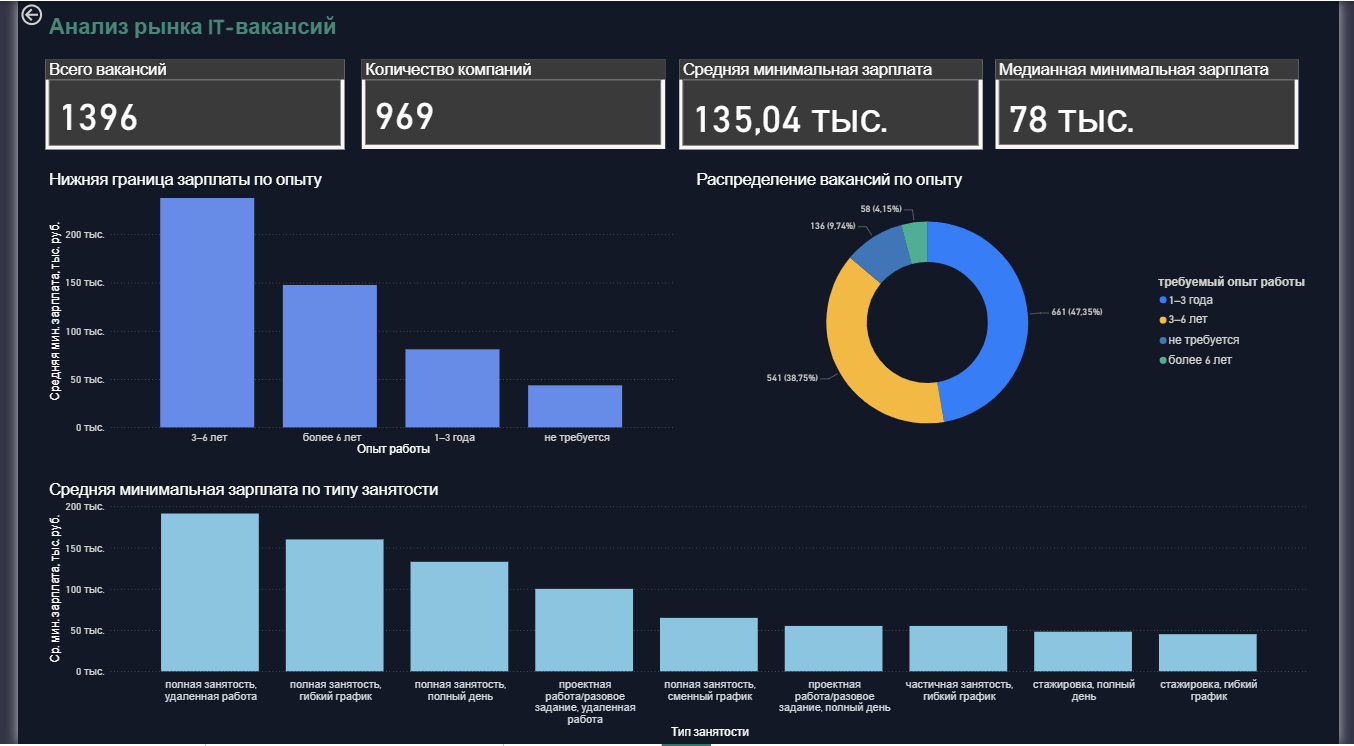

The page's visual inventory and layout, read from the dashboard file:
{"tool":"powerbi","page":{"name":"Анализ рынка IT вакансий","canvas":[1920,1080],"ordinal":0},"visuals":[{"type":"cardVisual","title":"Всего вакансий","fields":{"Data":["Count(Все_вакансии.вакансии_ключ)"]},"box":[40,85,434,130],"z":0},{"type":"actionButton","box":[0,0,100,40],"z":1000},{"type":"cardVisual","title":"Количество компаний","fields":{"Data":["Count(Все_вакансии.компания)"]},"box":[500,85,440.5,129.7],"z":2000},{"type":"cardVisual","title":"Средняя минимальная зарплата","fields":{"Data":["Avg(Все_вакансии.МинЗП_руб)"]},"box":[960,85,440.5,130],"z":3000},{"type":"cardVisual","title":"Медианная минимальная зарплата","fields":{"Data":["Median(Все_вакансии.МинЗП_руб)"]},"box":[1420,85,440,129.7],"z":4000},{"type":"columnChart","title":"Нижняя граница зарплаты по опыту","fields":{"Category":["Все_вакансии.требуемый опыт работы"],"Y":["Avg(Все_вакансии.МинЗП_руб)"]},"box":[40,245,920,420],"z":5000},{"type":"donutChart","title":"Распределение вакансий по опыту","fields":{"Category":["Все_вакансии.требуемый опыт работы"],"Y":["CountNonNull(Все_вакансии.требуемый опыт работы)"]},"box":[980,245,900,420],"z":6000},{"type":"clusteredColumnChart","title":"Средняя минимальная зарплата по типу занятости","fields":{"Category":["Все_вакансии.тип занятости"],"Y":["Avg(Все_вакансии.МинЗП_руб)"]},"box":[40,695,1840,380],"z":7000},{"type":"textbox","box":[40,15,900,50],"z":8000}]}

Visuals, with their boxes in screenshot pixels (x1, y1, x2, y2), scaled from the page's 1920x1080 canvas onto the 1354x746 screenshot:
"Всего вакансий" cardVisual: select_region(28, 59, 334, 149)
actionButton: select_region(0, 0, 71, 28)
"Количество компаний" cardVisual: select_region(353, 59, 663, 148)
"Средняя минимальная зарплата" cardVisual: select_region(677, 59, 988, 149)
"Медианная минимальная зарплата" cardVisual: select_region(1001, 59, 1312, 148)
"Нижняя граница зарплаты по опыту" columnChart: select_region(28, 169, 677, 459)
"Распределение вакансий по опыту" donutChart: select_region(691, 169, 1326, 459)
"Средняя минимальная зарплата по типу занятости" clusteredColumnChart: select_region(28, 480, 1326, 743)
textbox: select_region(28, 10, 663, 45)
